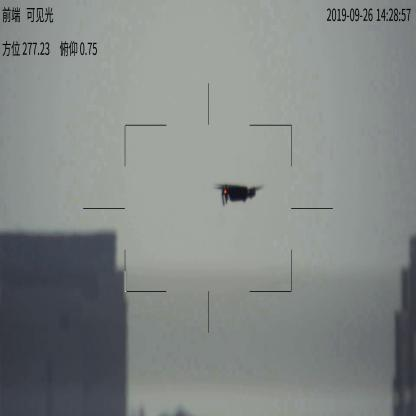uav: (212, 180, 268, 208)
